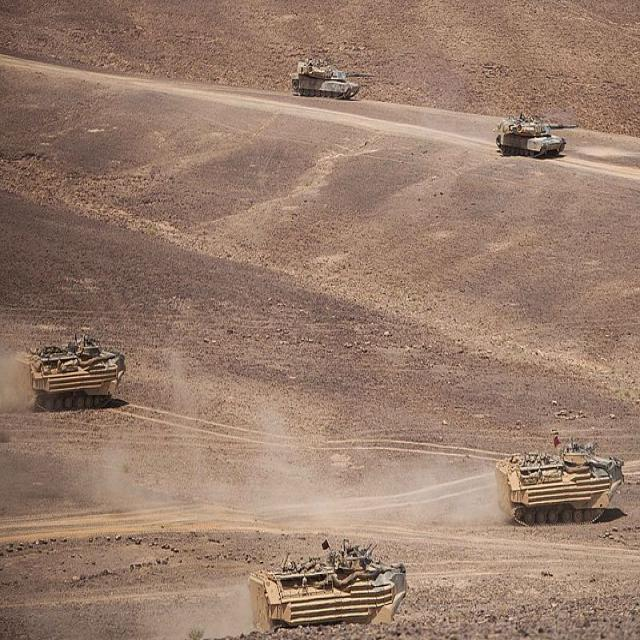tank: (246, 537, 408, 637), (489, 438, 626, 529), (20, 337, 128, 415), (492, 111, 578, 162), (288, 56, 375, 104)
